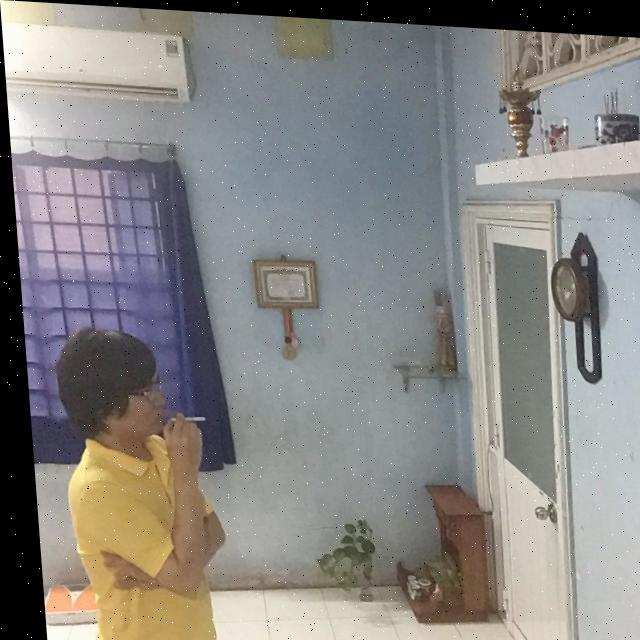cigarette: (164, 413, 200, 422)
